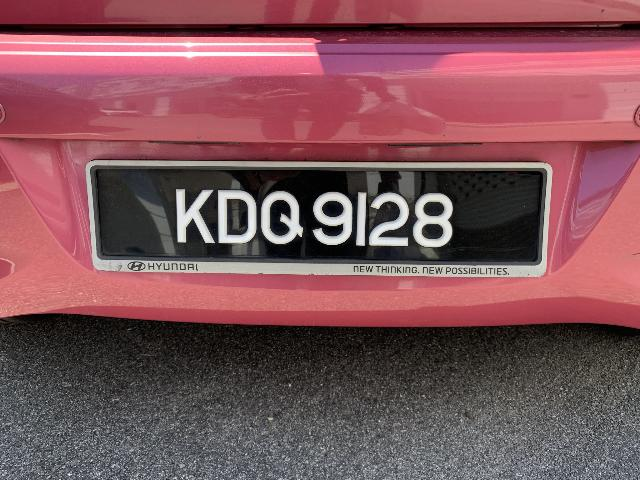License_Plate: (102, 171, 538, 265)
car: (1, 2, 640, 337)
